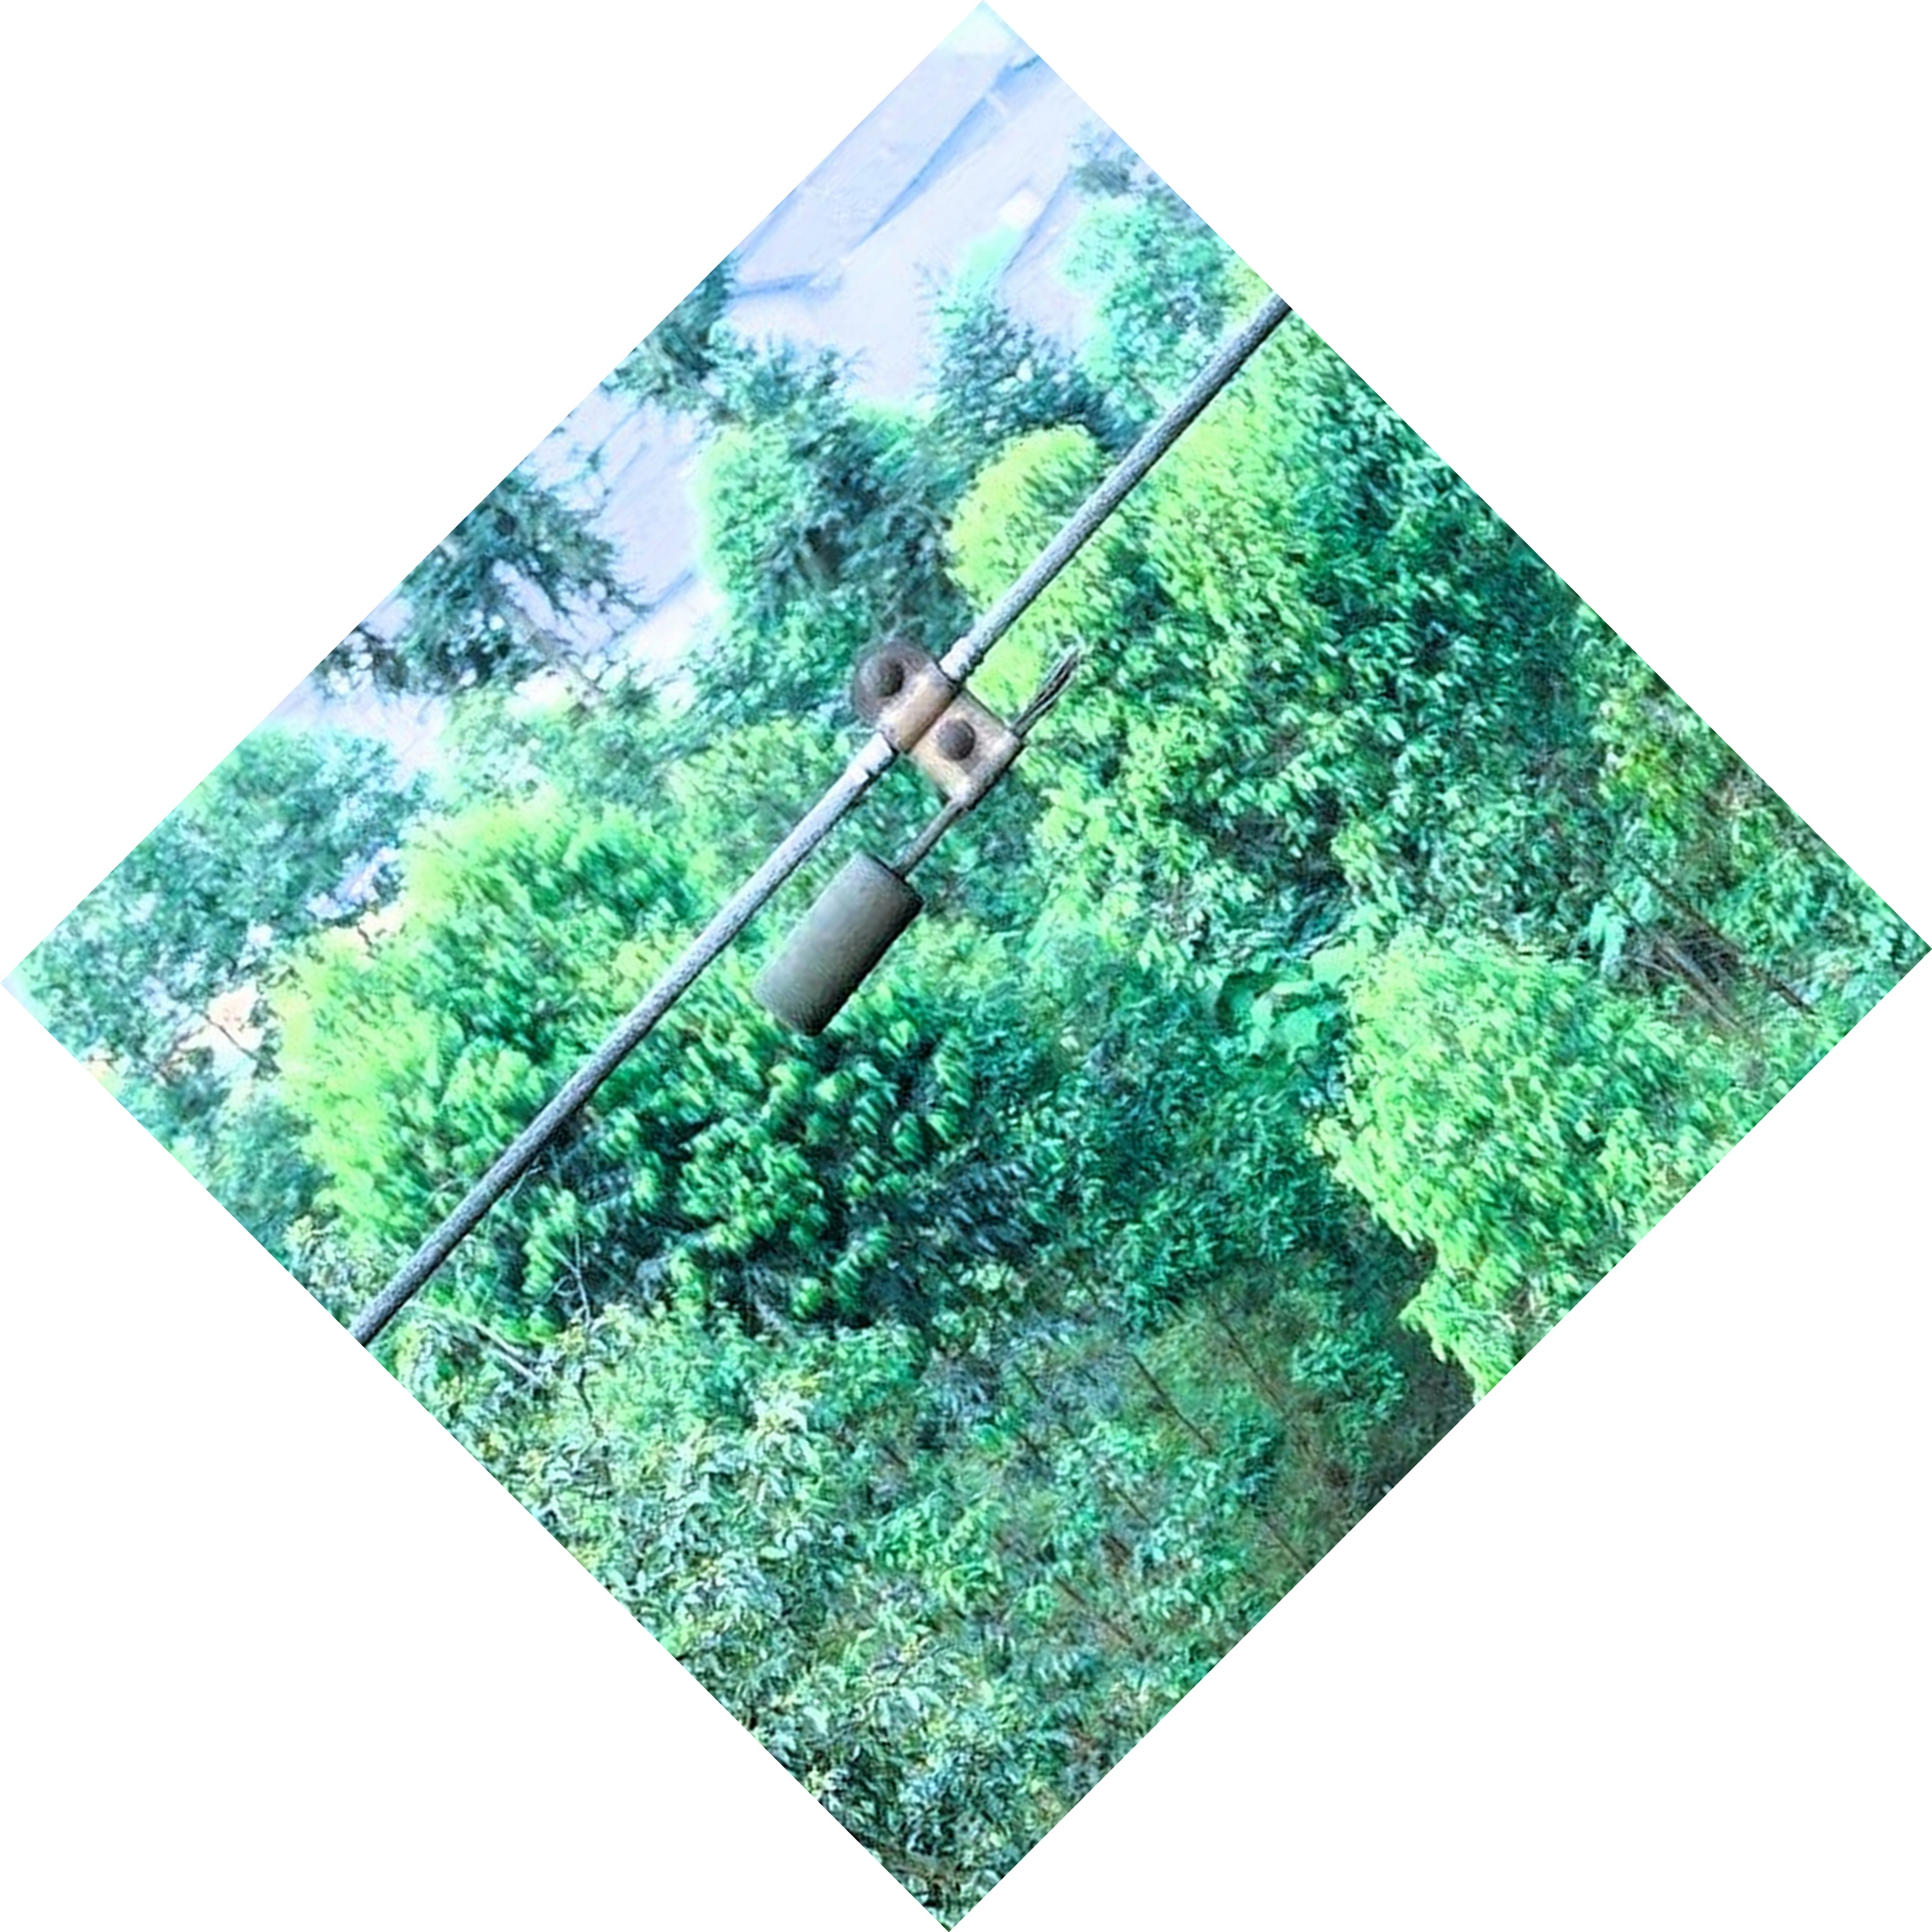Damage of shockproof hammer: (694, 596, 1123, 1047)
